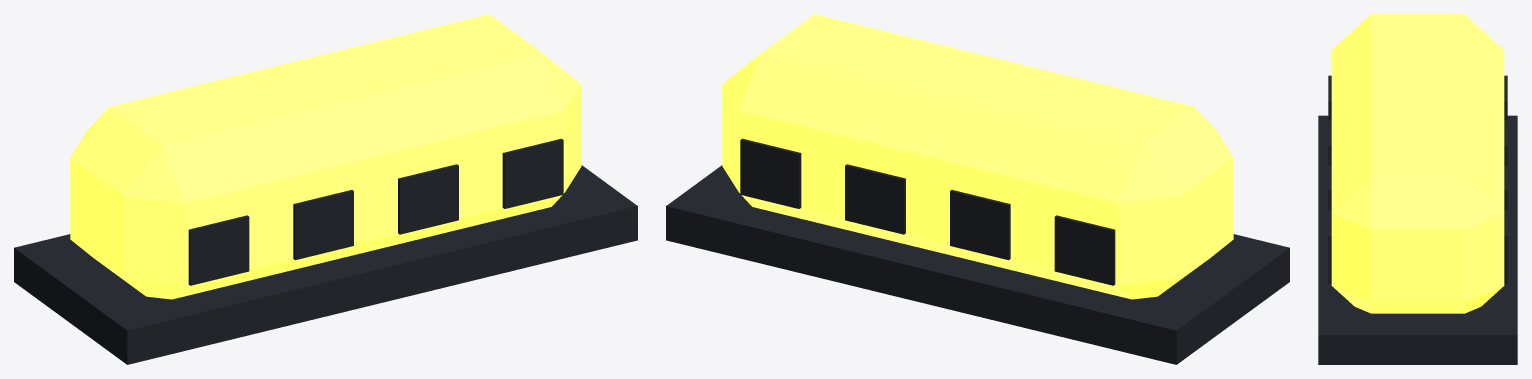
Rendered from taxi_sign.glb.
The picture shows the model from 3 angles, left to right: view 1: azimuth 30°, elevation 25°; view 2: azimuth 150°, elevation 25°; view 3: azimuth 270°, elevation 25°; orthographic projection. The views are drawn at different scales.
Visible parts, largest first — view 1: taxi_sign; view 2: taxi_sign; view 3: taxi_sign.
Boxes of the visible parts, <box> form: taxi_sign: <box>14,14,637,364</box>; taxi_sign: <box>666,14,1289,364</box>; taxi_sign: <box>1318,14,1517,364</box>.
Bounding box in the file's own units: 0.78 × 0.265 × 0.3.
